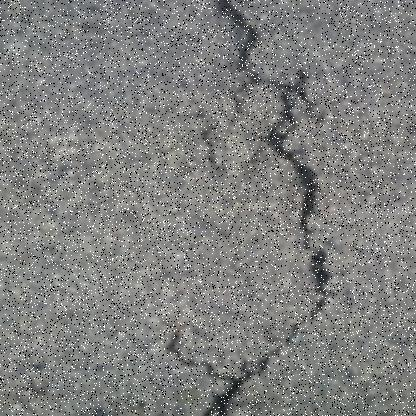Cracks: (163, 0, 349, 415)
